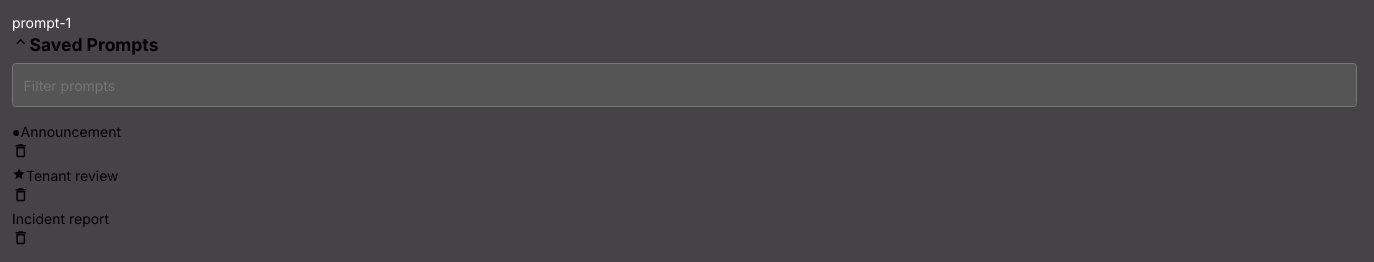
SavedPrompts › deletes only after the confirmation is accepted
Check: the text "Announcement" is shown, box top-left (20, 123), bottom-right (121, 140)
Step 1. Click the button named "Delete Tenant review" → (21, 197), box top-left (12, 186), bottom-right (30, 208)
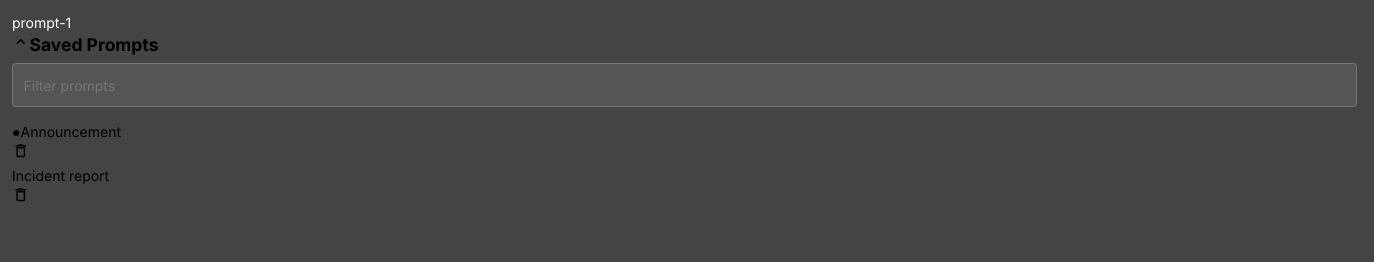
Check: the button "Tenant review" is gone
